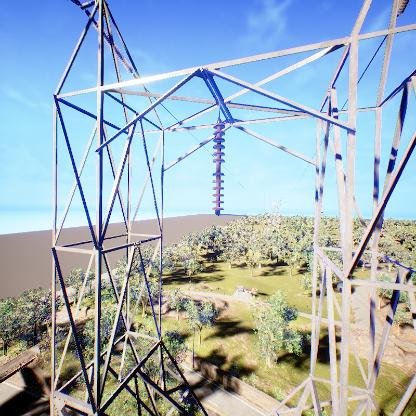insulator: (211, 121, 227, 213)
